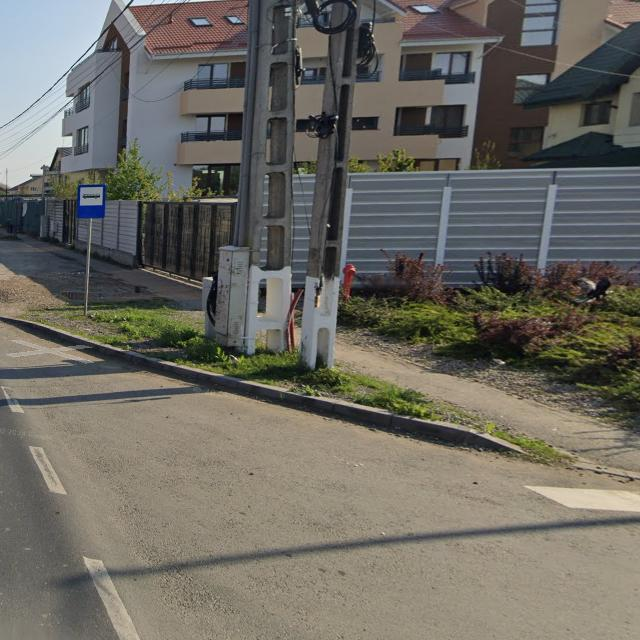info_bus_station: (76, 184, 105, 218)
